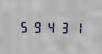five: (18, 19, 30, 33)
four: (44, 19, 56, 34)
nine: (31, 19, 43, 33)
one: (70, 20, 82, 34)
three: (57, 20, 69, 34)
